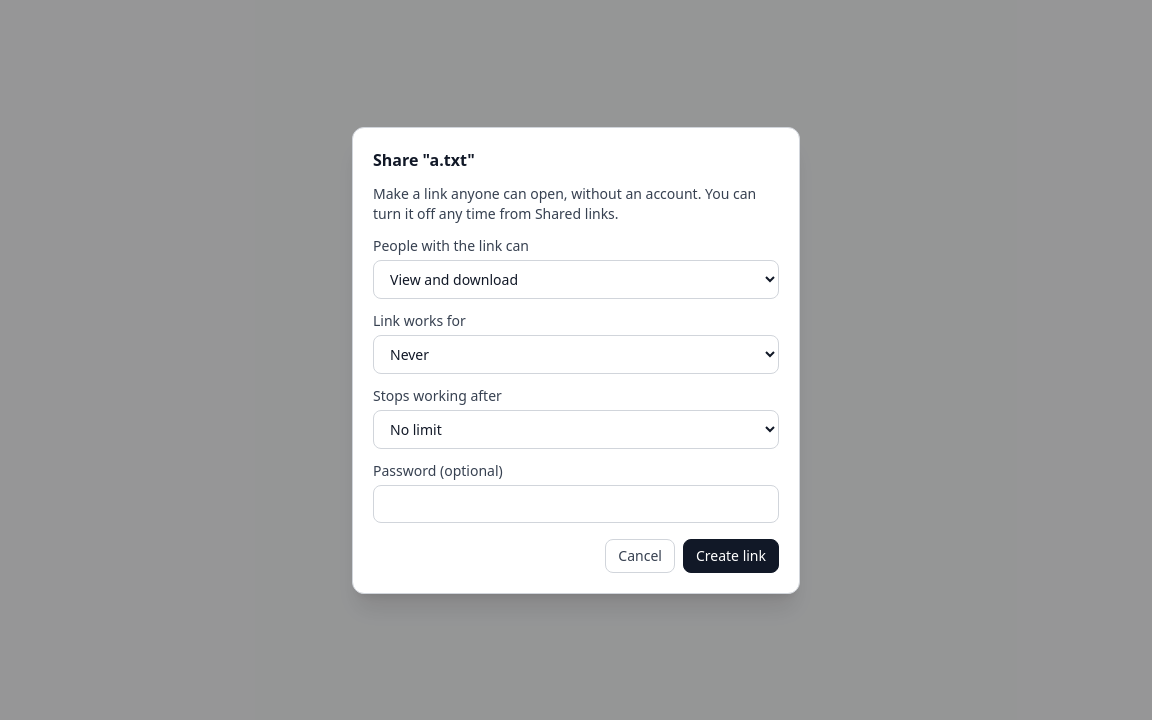
Scenario: ShareDialog › will not create a link with a too-short password
Type "abc" into the password field labelled "Password (optional)" at [576, 504], box [373,484,779,522]
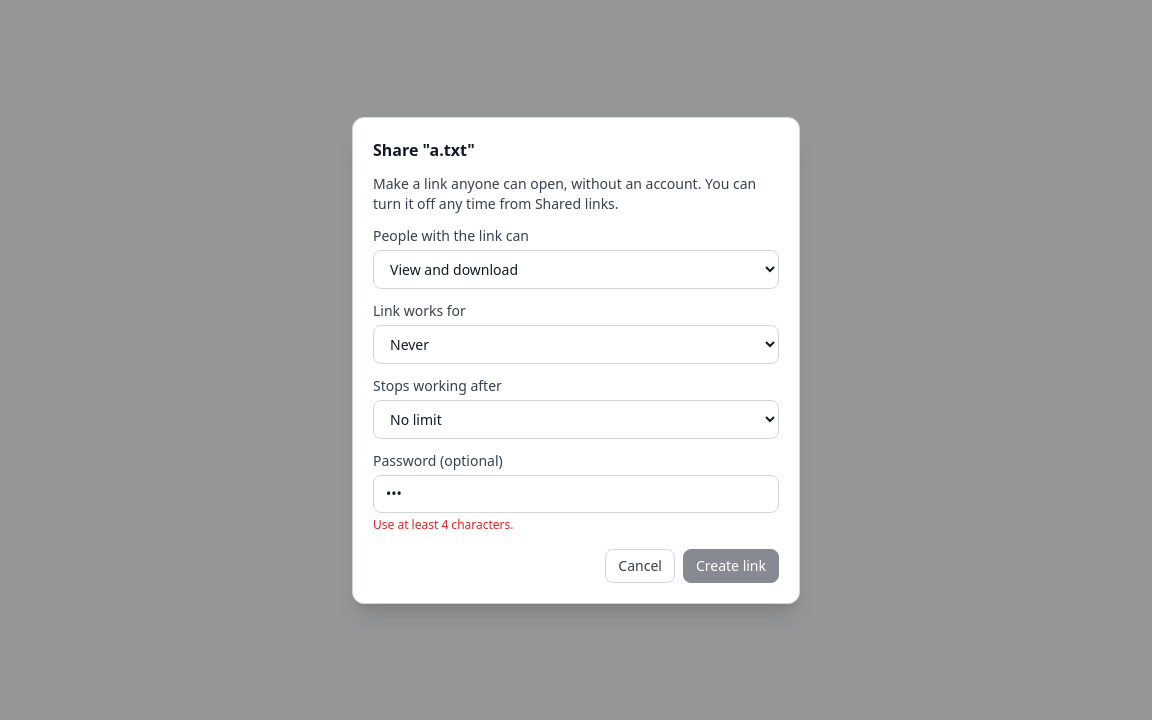
Now the text "Use at least 4 characters." is shown, box [373,516,514,532]
Now the button "Create link" is disabled, box [683,548,779,582]
